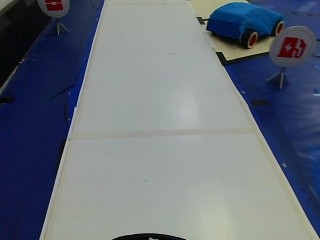battery: (273, 30, 312, 67)
company: (37, 0, 70, 19)
